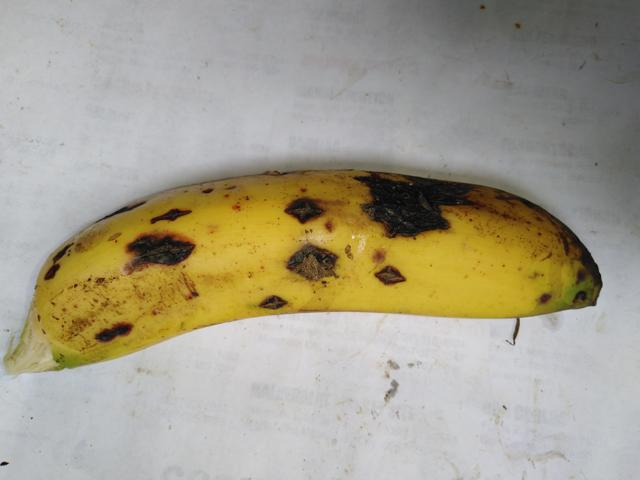rotten: (352, 146, 491, 239), (95, 185, 211, 258), (264, 232, 353, 289), (86, 308, 147, 356), (270, 180, 321, 224), (367, 250, 416, 291), (248, 281, 289, 319)
